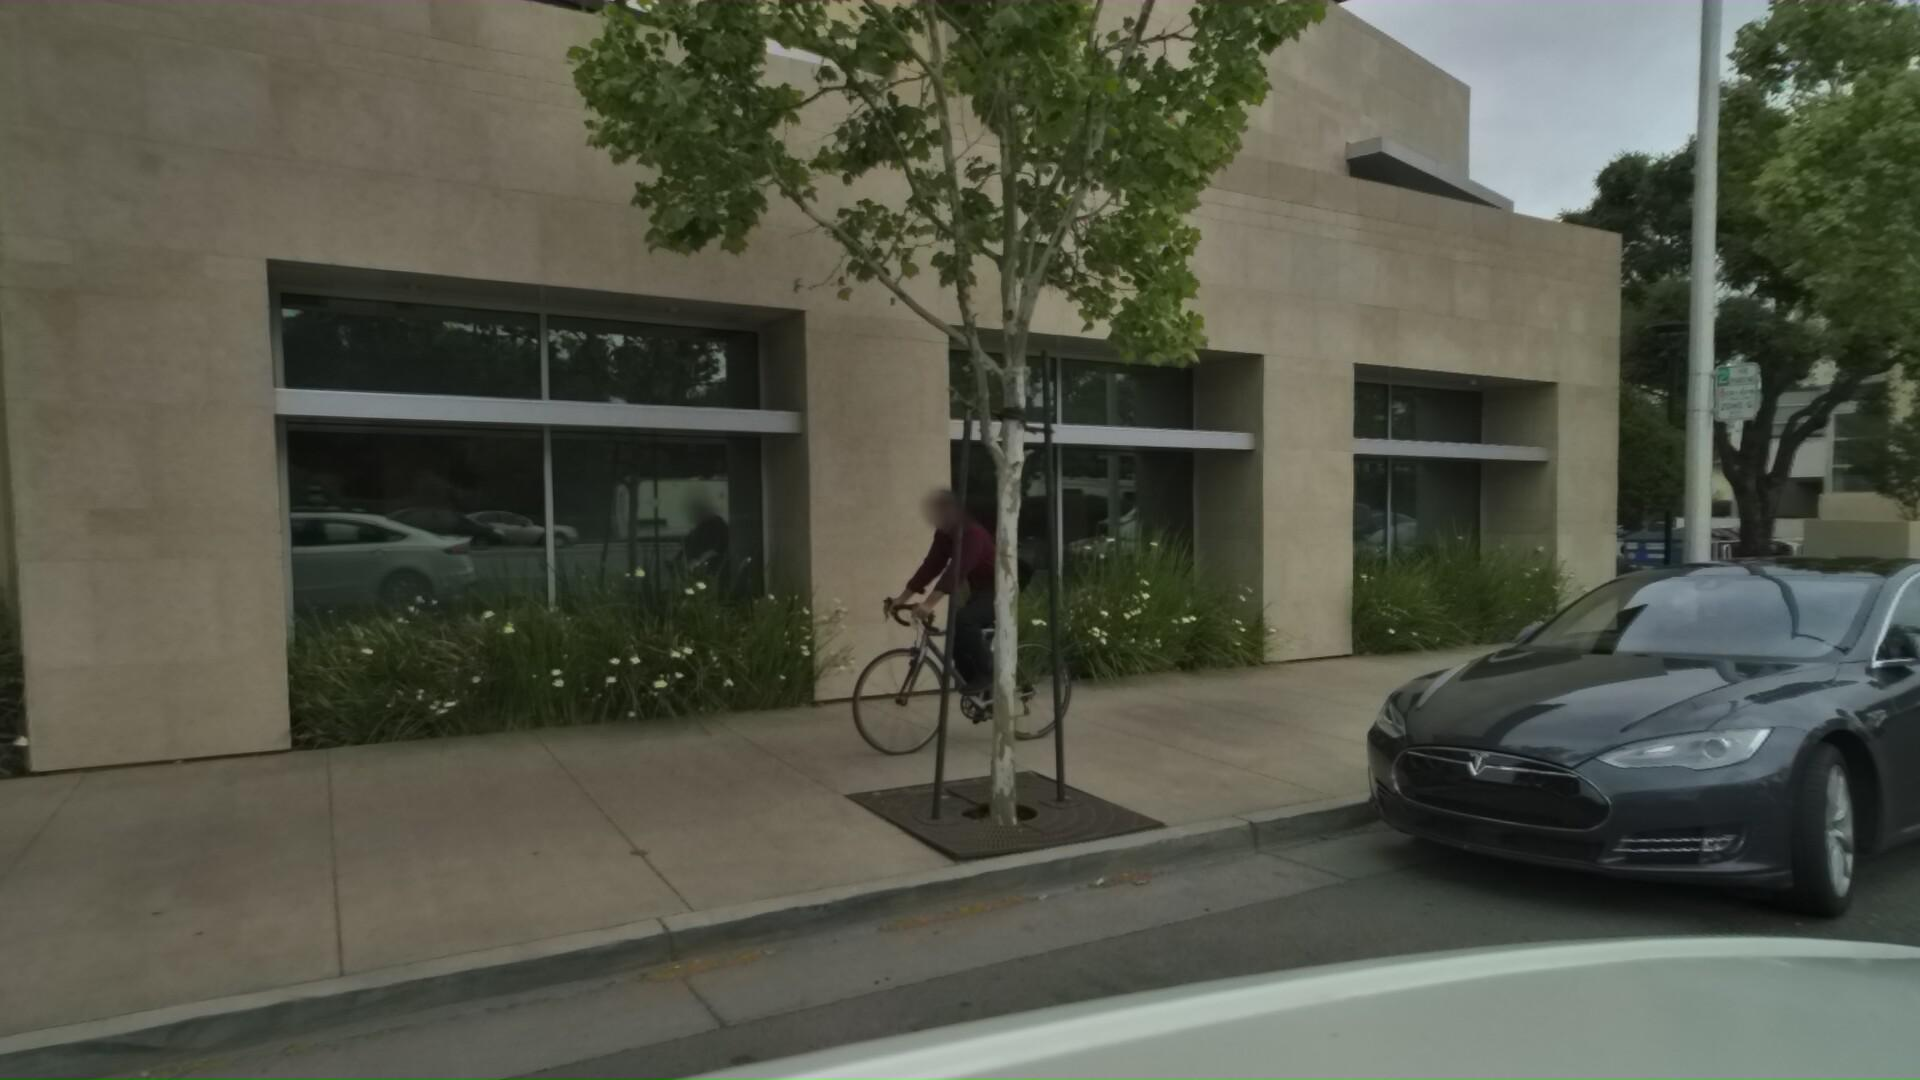bicycle: (868, 468, 1147, 773)
car: (1345, 535, 1920, 1019), (1643, 513, 1804, 562)
